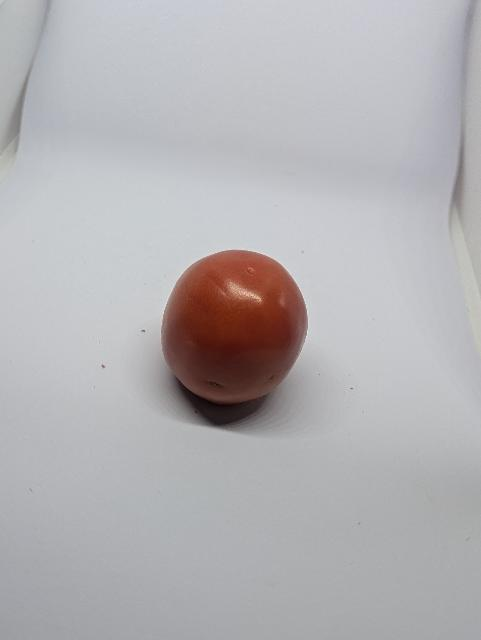red: (156, 247, 313, 411)
